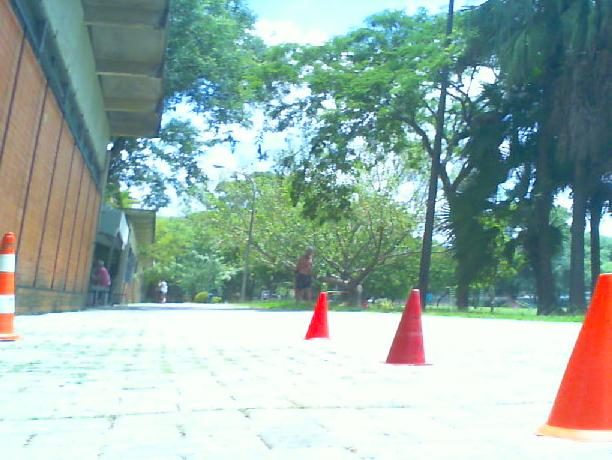0 cone: (536, 274, 612, 442), (378, 290, 433, 366), (0, 232, 20, 341), (303, 293, 330, 342)
